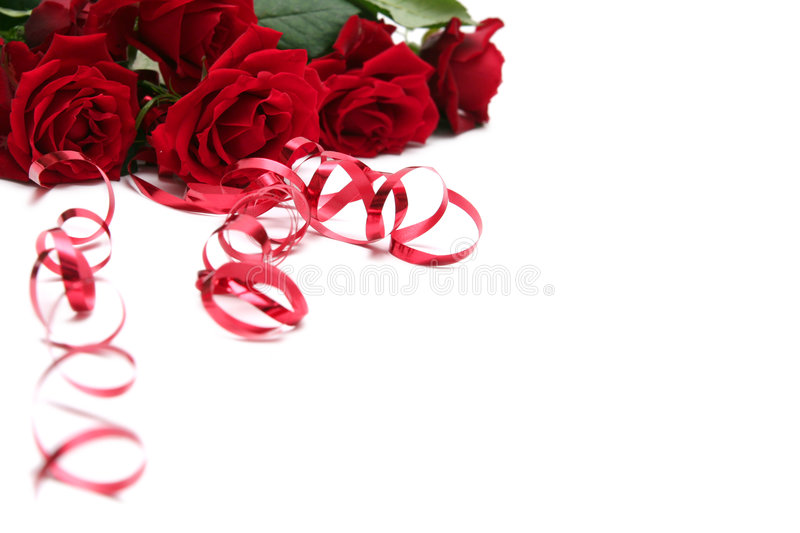RedRose: (145, 34, 327, 244), (1, 28, 151, 206), (317, 1, 465, 179)
